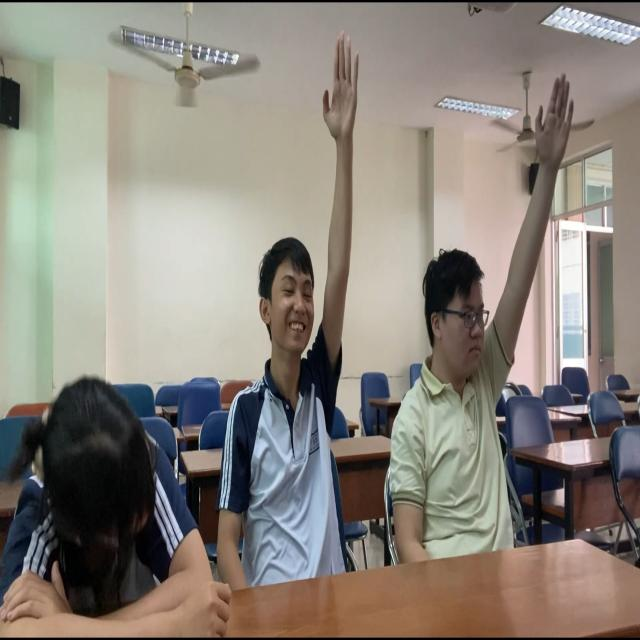raise_hand: (391, 73, 566, 569), (220, 26, 368, 599)
sleep: (1, 385, 232, 640)
